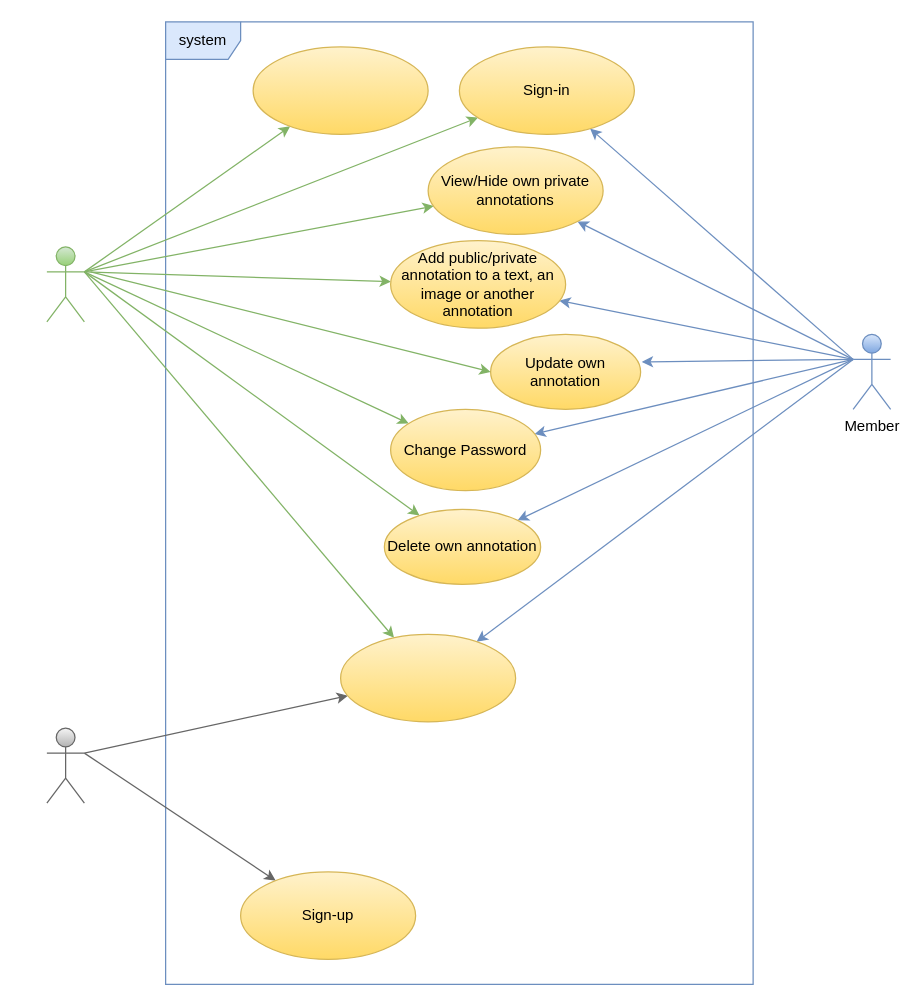
This 921x1006 diagram has some shape labels left out. The shapes that lost their labels are listed below. From the top down, each one's box as (x1, y1, x2, y2) in pixels, then its label:
(252, 46, 428, 134): Delete any public annotation
(46, 246, 84, 322): Admin
(339, 633, 516, 722): View/Hide public annotations
(46, 727, 84, 803): Non-Member
